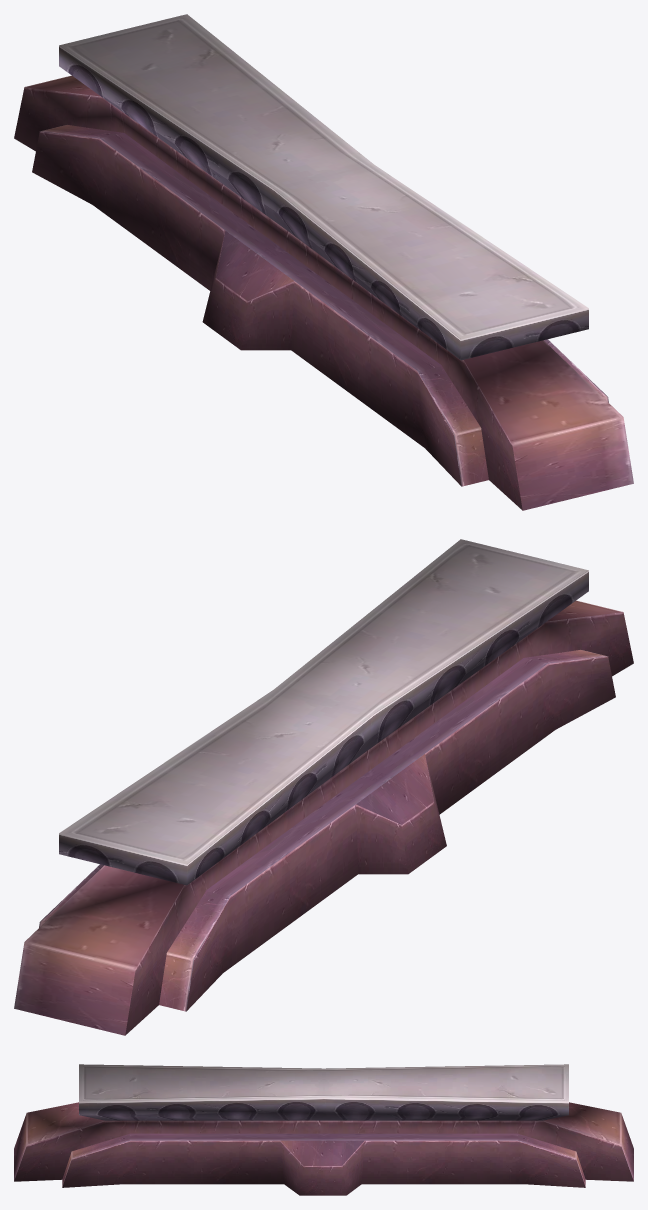
The picture shows the model from 3 angles, top to bottom: view 1: azimuth 30°, elevation 25°; view 2: azimuth 150°, elevation 25°; view 3: azimuth 270°, elevation 25°; orthographic projection. The views are drawn at different scales.
Size of the model in its own units: 1.04 by 0.6456 by 4.44.
1 material, 1 textured.
